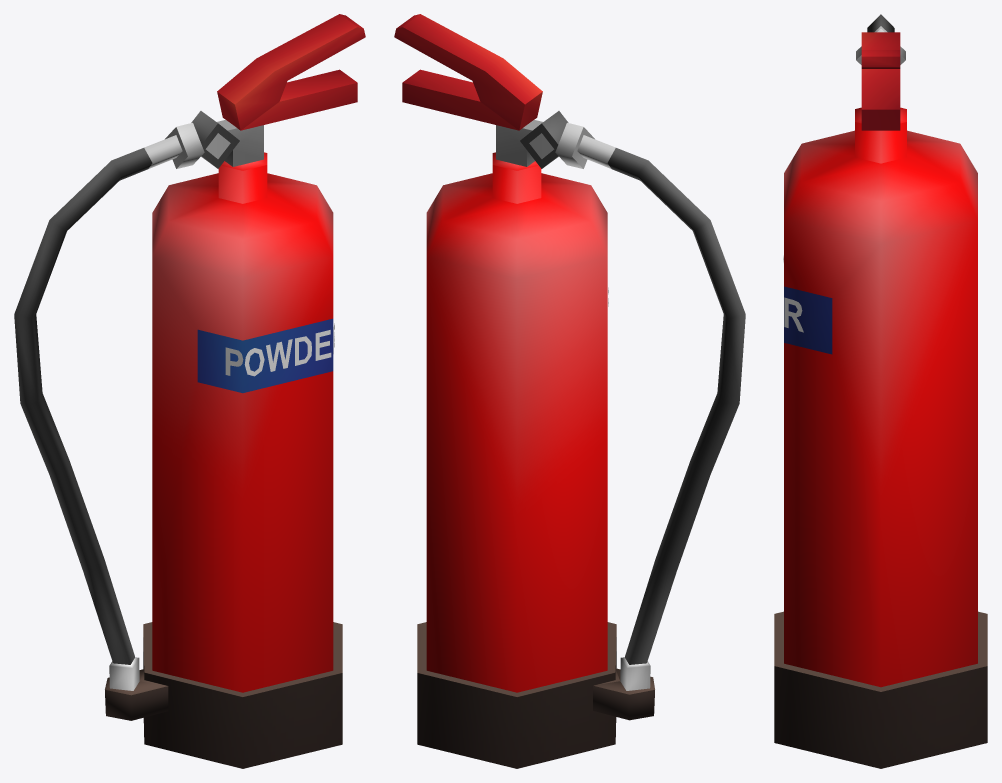
Rendered from CR_Fireextinguisher_001.FBX.
3 views of the same model, side by side, from view 1: azimuth 30°, elevation 25°; view 2: azimuth 150°, elevation 25°; view 3: azimuth 270°, elevation 25° (orthographic). The views are drawn at different scales.
Parts seen in each view (by area): view 1: CR_Fireextinguisher_001; view 2: CR_Fireextinguisher_001; view 3: CR_Fireextinguisher_001.
Part boxes in pixels (left/top/right/bottom): CR_Fireextinguisher_001: left=14, top=14, right=365, bottom=768; CR_Fireextinguisher_001: left=394, top=14, right=745, bottom=768; CR_Fireextinguisher_001: left=774, top=14, right=987, bottom=768.
Size of the model in its own units: 8.2 by 15.4 by 4.13.
